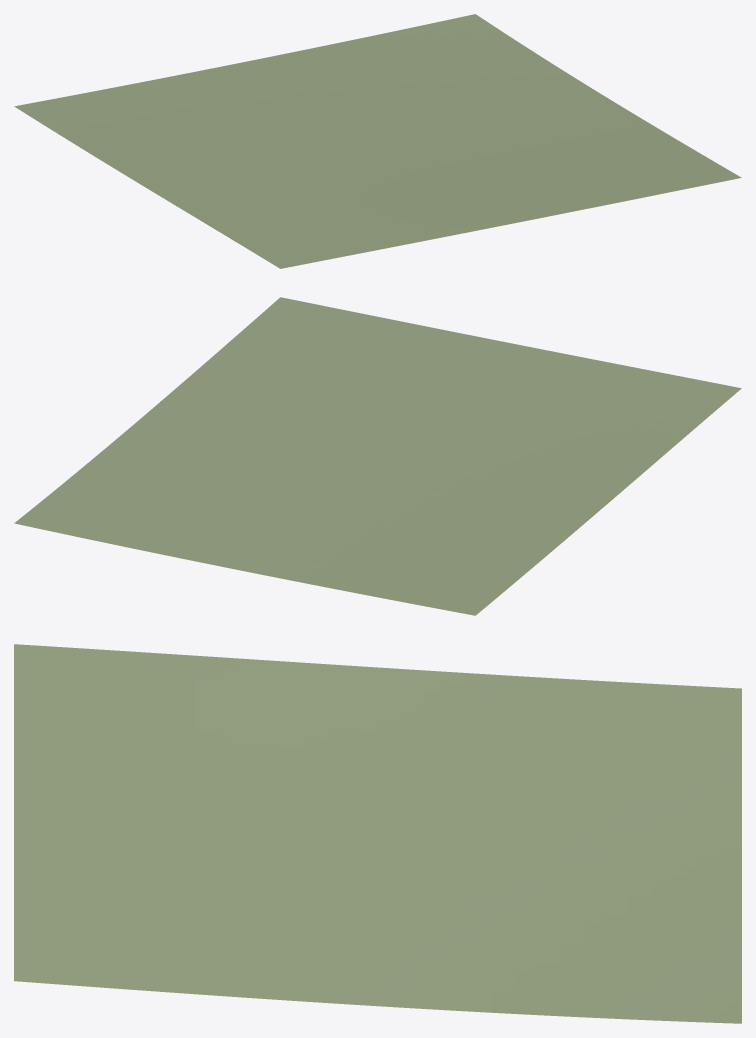
Rendered from desert-3-25.glb.
3 views of the same model, one above another, from view 1: azimuth 30°, elevation 25°; view 2: azimuth 150°, elevation 25°; view 3: azimuth 270°, elevation 25° (orthographic). The views are drawn at different scales.
Visible parts, largest first — view 1: desert-3-25; view 2: desert-3-25; view 3: desert-3-25.
Part boxes in pixels (<box>): desert-3-25: <box>14,14,741,268</box>; desert-3-25: <box>14,297,741,615</box>; desert-3-25: <box>14,644,741,1023</box>.
Bounding box in the file's own units: 512 × 55.85 × 512.
